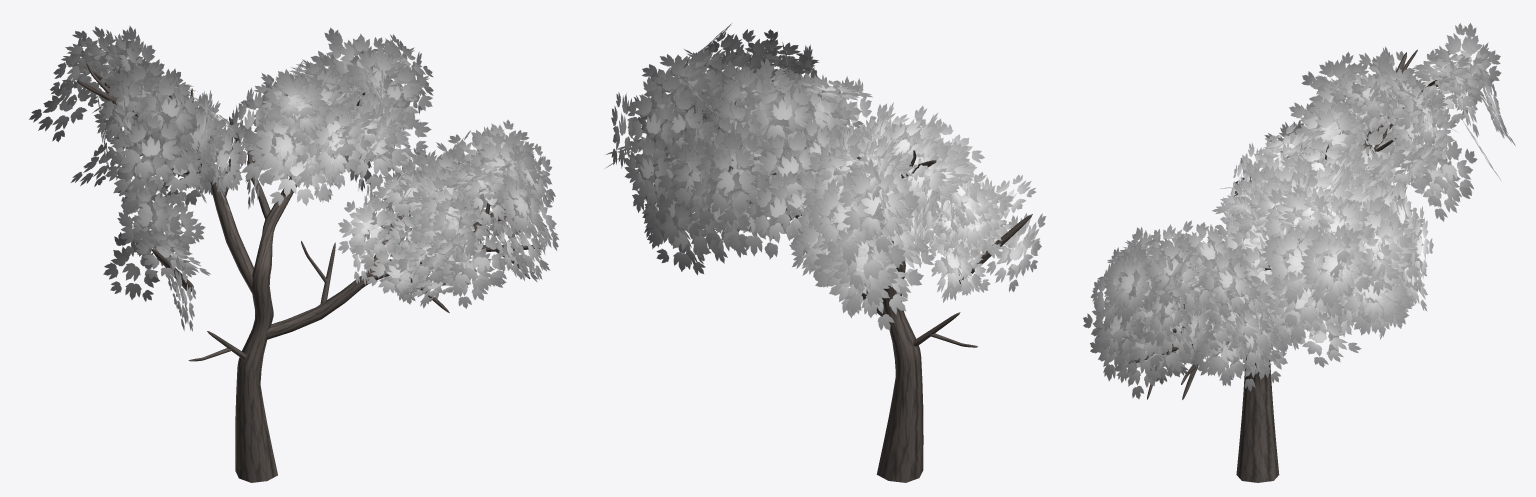
File: tr_maple2.glb
3 renders of one model, left to right at view 1: azimuth 30°, elevation 25°; view 2: azimuth 150°, elevation 25°; view 3: azimuth 270°, elevation 25°, orthographic. The views are drawn at different scales.
Parts seen in each view (by area): view 1: tree; view 2: tree; view 3: tree.
Part boxes in pixels (x1,y1,x2,y2): tree: [29, 26, 558, 482]; tree: [605, 23, 1046, 482]; tree: [1083, 23, 1515, 482].
Bounding box in the file's own units: 7.97 × 8 × 7.7.
2 materials, 2 textured.
